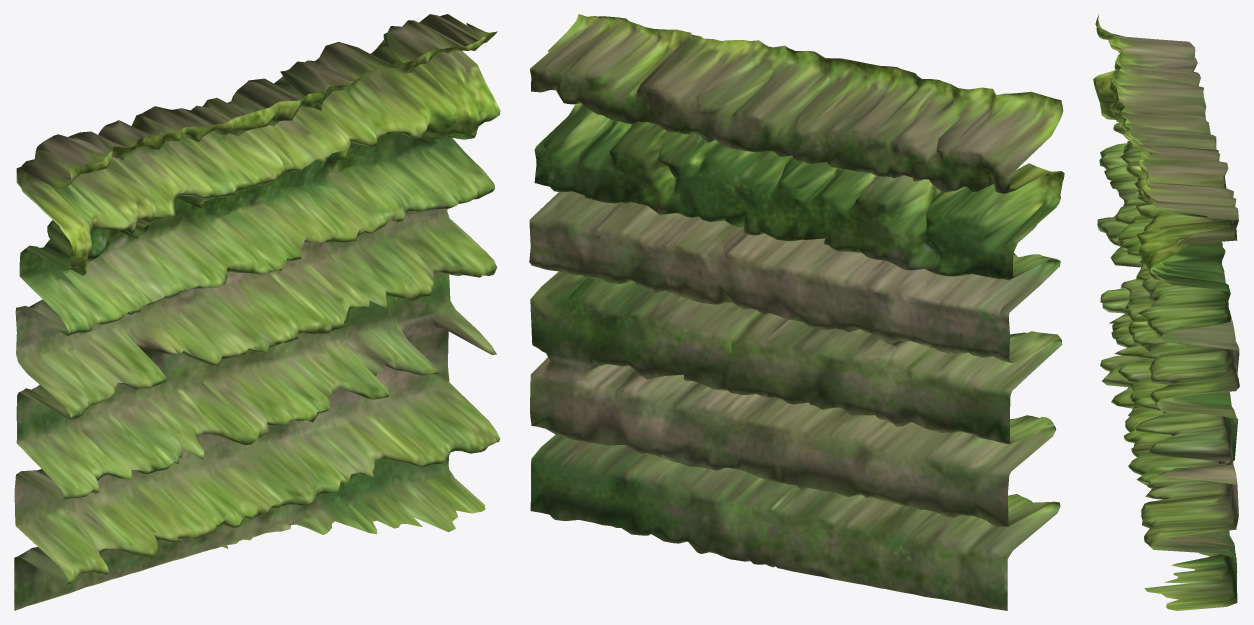
File: map_40_30.obj
The picture shows the model from 3 angles, left to right: view 1: azimuth 30°, elevation 25°; view 2: azimuth 150°, elevation 25°; view 3: azimuth 270°, elevation 25°; orthographic projection. The views are drawn at different scales.
Visible parts, largest first — view 1: map_40_30.obj; view 2: map_40_30.obj; view 3: map_40_30.obj.
Boxes of the visible parts, x1,y1,x2,y2 form: map_40_30.obj: [14, 14, 500, 610]; map_40_30.obj: [529, 14, 1064, 610]; map_40_30.obj: [1093, 14, 1239, 610].
Size of the model in its own units: 10 by 10 by 3.27.
1 material, 1 textured.
